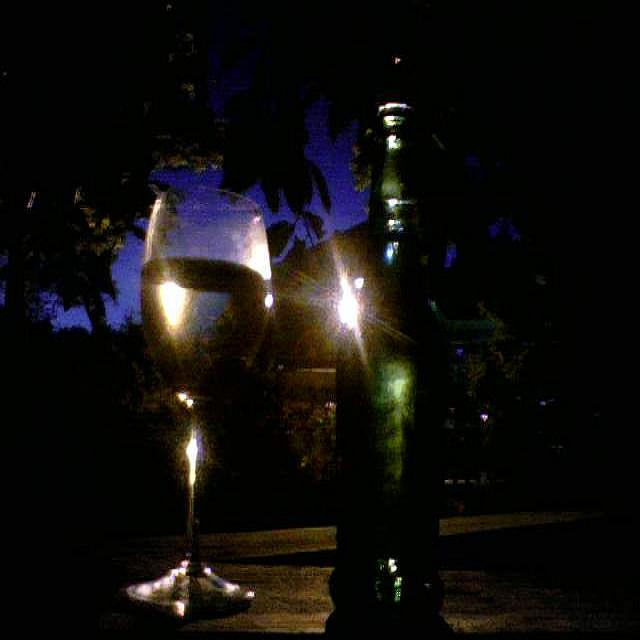Bottle: (326, 67, 477, 640)
Cup: (112, 153, 280, 640)
